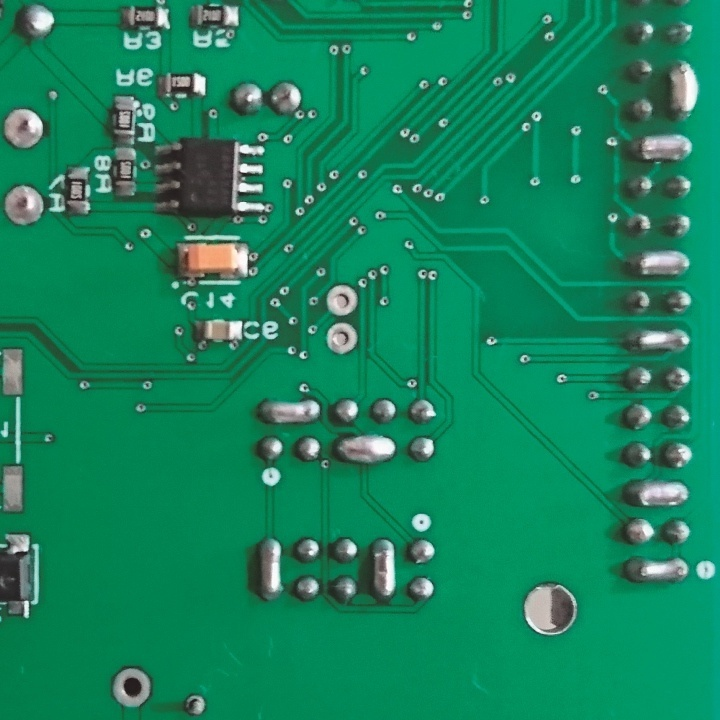F: (1, 103, 48, 152), (2, 180, 47, 229), (109, 665, 153, 710), (324, 281, 359, 318), (325, 322, 358, 356), (180, 691, 209, 717)
P: (621, 475, 693, 514), (331, 432, 401, 469), (664, 58, 701, 127), (620, 552, 693, 586), (624, 247, 696, 281), (622, 325, 693, 358), (626, 132, 696, 165), (367, 535, 399, 606), (253, 395, 325, 426), (254, 535, 284, 606)
